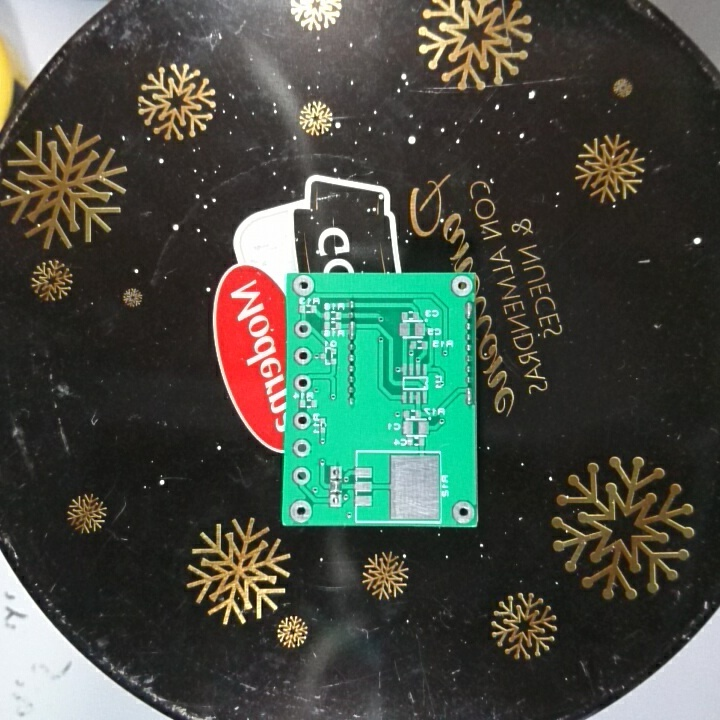F: (287, 497, 315, 527), (290, 272, 316, 299), (450, 498, 474, 526), (449, 273, 474, 298), (291, 464, 313, 491), (291, 437, 314, 461), (291, 409, 315, 431), (293, 316, 311, 342), (293, 346, 313, 367), (293, 372, 308, 396), (327, 492, 344, 510), (327, 465, 344, 481)
P: (347, 318, 359, 342), (463, 300, 475, 323), (463, 386, 473, 407)
